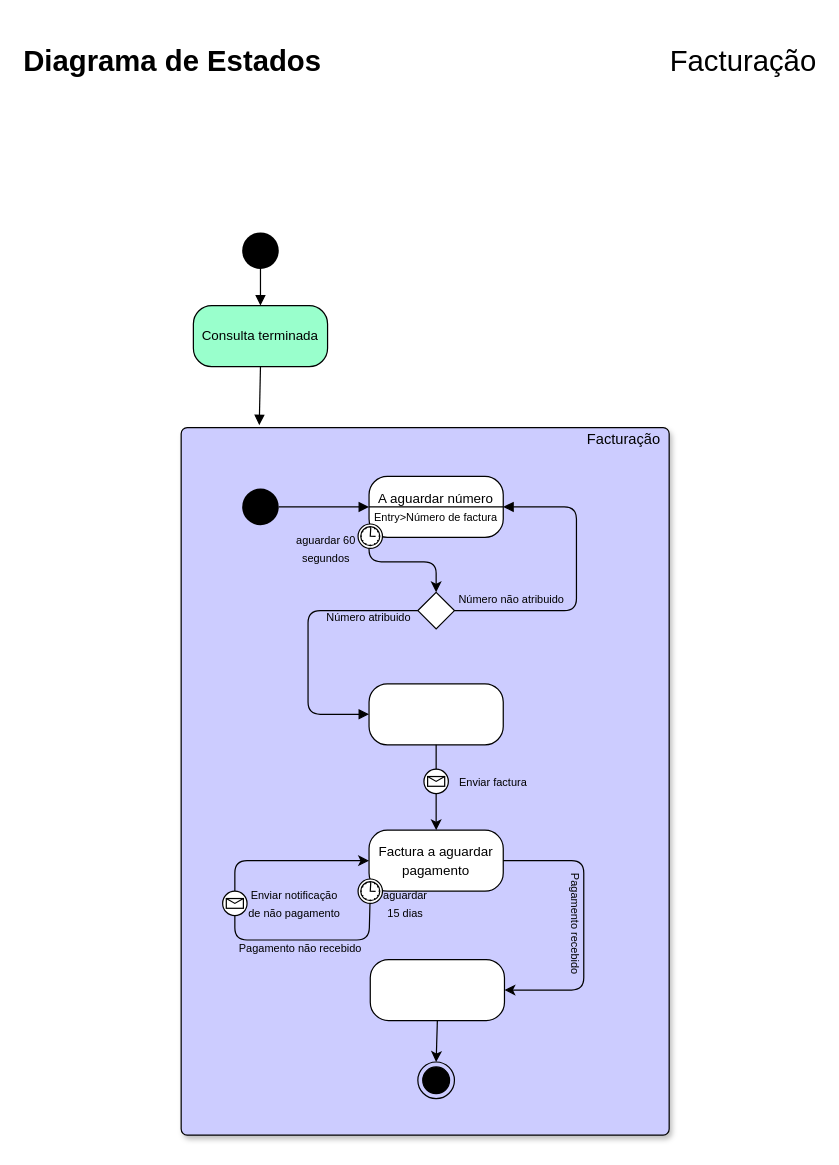
This 839x1165 diagram has some shape labels left out. The centre of each missing label's shape, as x and y in pixels:
"Factura criada" goes at point (435, 714).
"Factura paga" goes at point (436, 989).
